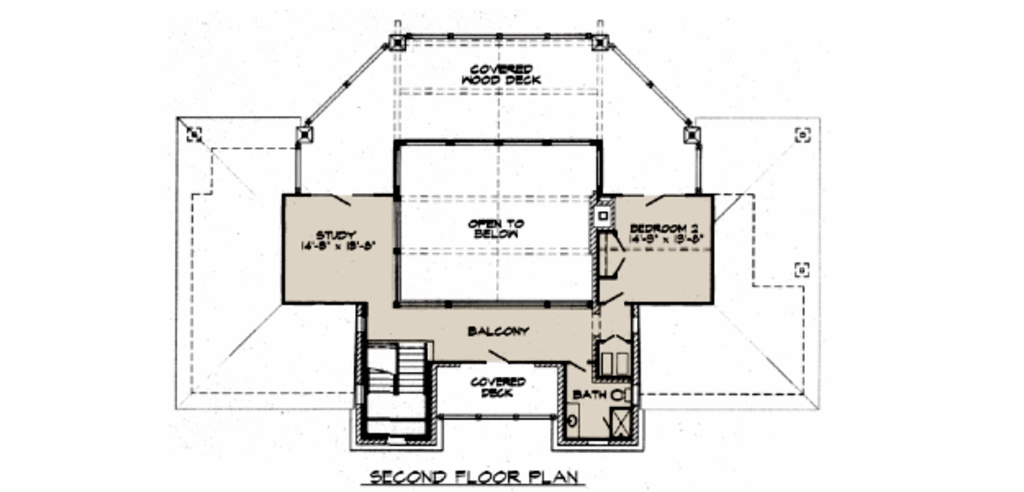door: (632, 188, 670, 215), (322, 186, 358, 210), (599, 288, 630, 315)
large_sink: (609, 378, 632, 409)
small_sink: (560, 399, 586, 438)
stairs: (358, 339, 446, 438)
